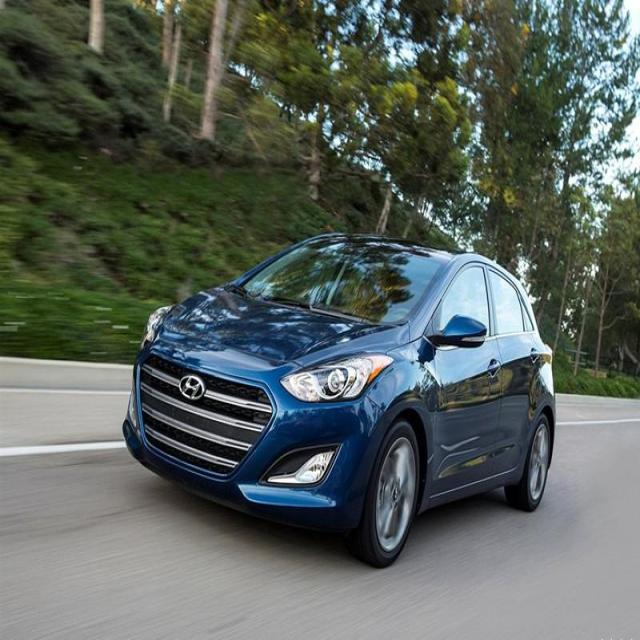front_bumper: (122, 369, 392, 527)
front_glass: (237, 237, 452, 329)
front_left_side_door: (427, 258, 505, 504)
front_left_side_light: (278, 350, 395, 406)
front_left_side_mirror: (438, 314, 489, 349)
front_right_side_light: (140, 302, 174, 349)
wheel: (356, 419, 422, 568), (508, 411, 554, 509)
